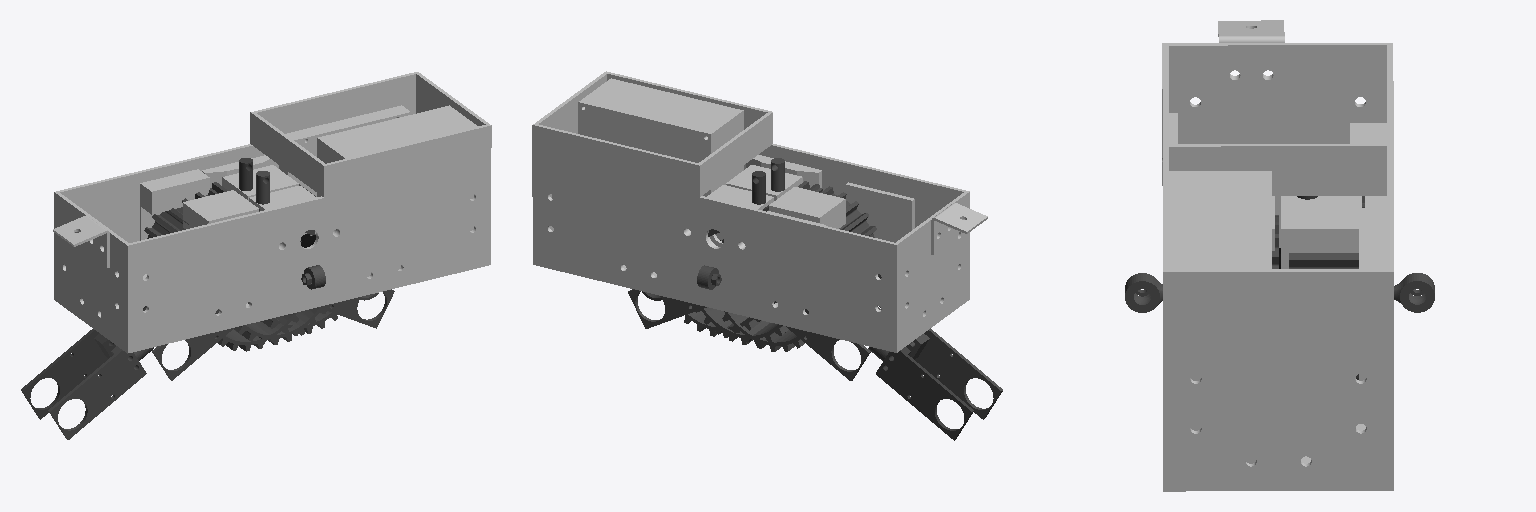
URDF robot description (moonmapper):
<?xml version="1.0" ?>
<!-- =================================================================================== -->
<!-- |    This document was autogenerated by xacro from /home/farr97/rover/simulasjon/moonmapper_ws/install/moonmapper_description/share/moonmapper_description/urdf/moonmapper.urdf.xacro | -->
<!-- |    EDITING THIS FILE BY HAND IS NOT RECOMMENDED                                 | -->
<!-- =================================================================================== -->
<!-- Entry-point xacro for MoonMapper rover -->
<robot name="moonmapper">
  <!-- pi/180 -->
  <link name="world"/>
  <joint name="world_to_base_footprint" type="fixed">
    <parent link="world"/>
    <child link="base_footprint"/>
    <origin rpy="0 0 0" xyz="0 0 0"/>
  </joint>
  <link name="base_footprint"/>
  <link name="base_link">
    <visual>
      <origin rpy="0 0 0" xyz="0 0 0"/>
      <geometry>
        <mesh filename="meshes/visual/robot_base.stl" scale="1 1 1"/>
      </geometry>
      <material name="gray">
        <color rgba="0.8 0.8 0.8 1.0"/>
      </material>
    </visual>
    <collision>
      <origin rpy="0 0 0" xyz="0 0 0"/>
      <geometry>
        <mesh filename="meshes/visual/robot_base.stl" scale="1 1 1"/>
      </geometry>
    </collision>
    <!-- Gazebo krever inertial paa enhver dynamisk link.
         Verdier skalert for en ~5cm rover-chassis (mesh-boks 48x25x18mm). -->
    <inertial>
      <origin rpy="0 0 0" xyz="0 0 -0.005"/>
      <mass value="2.0"/>
      <inertia ixx="0.0010" ixy="0" ixz="0" iyy="0.0012" iyz="0" izz="0.0015"/>
    </inertial>
  </link>
  <joint name="base_footprint_to_base_link" type="fixed">
    <parent link="base_footprint"/>
    <child link="base_link"/>
    <origin rpy="0 0 0" xyz="0 0 0"/>
  </joint>
  <link name="rocker_right_link">
    <visual>
      <origin rpy="0 0 0" xyz="0 0 0"/>
      <geometry>
        <mesh filename="meshes/visual/rocker_right_link.stl" scale="1 1 1"/>
      </geometry>
      <material name="dark_gray">
        <color rgba="0.3 0.3 0.3 1.0"/>
      </material>
    </visual>
    <collision>
      <origin rpy="0 0 0" xyz="0 0 0"/>
      <geometry>
        <mesh filename="meshes/visual/rocker_right_link.stl" scale="1 1 1"/>
      </geometry>
    </collision>
    <inertial>
      <origin rpy="0 0 0" xyz="0 0 0"/>
      <mass value="0.08"/>
      <inertia ixx="0.00002" ixy="0" ixz="0" iyy="0.00004" iyz="0" izz="0.00005"/>
    </inertial>
  </link>
  <joint name="rocker_right_joint" type="revolute">
    <parent link="base_link"/>
    <child link="rocker_right_link"/>
    <origin rpy="0 0 0" xyz="-0.001174 0.014653 0.003683"/>
    <axis xyz="0 1 0"/>
    <dynamics damping="2.0" friction="0.15"/>
    <limit effort="100" lower="-0.5235987755982988" upper="0.5235987755982988" velocity="2.0"/>
  </joint>
  <!-- Bogie right -->
  <link name="bogie_right_link">
    <visual>
      <origin rpy="0 0 0" xyz="0 0 0"/>
      <geometry>
        <mesh filename="meshes/visual/bogie_right_link.stl" scale="1 1 1"/>
      </geometry>
      <material name="moonmapper_dark_gray">
        <color rgba="0.35 0.35 0.35 1.0"/>
      </material>
    </visual>
    <collision>
      <origin rpy="0 0 0" xyz="0 0 0"/>
      <geometry>
        <mesh filename="meshes/visual/bogie_right_link.stl" scale="1 1 1"/>
      </geometry>
    </collision>
    <inertial>
      <origin rpy="0 0 0" xyz="0 0 0"/>
      <mass value="0.05"/>
      <inertia ixx="0.000012" ixy="0" ixz="0" iyy="0.000025" iyz="0" izz="0.000030"/>
    </inertial>
  </link>
  <joint name="bogie_right_joint" type="revolute">
    <parent link="rocker_right_link"/>
    <child link="bogie_right_link"/>
    <origin rpy="0 0 0" xyz="-0.008727 0.002407 -0.006584"/>
    <axis xyz="0 1 0"/>
    <!-- Near-null statisk friksjon slik at bogien returnerer til flat
         posisjon naar begge hjul faar bakkekontakt igjen (ekte bogie har
         lager, ikke friksjon). Moderat damping hindrer oscillasjon. -->
    <dynamics damping="0.3" friction="0.01"/>
    <limit effort="100" lower="-0.6981317007977318" upper="0.6981317007977318" velocity="2.0"/>
  </joint>
  <!-- Rocker left link -->
  <link name="rocker_left_link">
    <visual>
      <origin rpy="0 0 0" xyz="0 0 0"/>
      <geometry>
        <mesh filename="meshes/visual/rocker_left_link.stl" scale="1 1 1"/>
      </geometry>
      <material name="moonmapper_dark_gray">
        <color rgba="0.35 0.35 0.35 1.0"/>
      </material>
    </visual>
    <collision>
      <origin rpy="0 0 0" xyz="0 0 0"/>
      <geometry>
        <mesh filename="meshes/visual/rocker_left_link.stl" scale="1 1 1"/>
      </geometry>
    </collision>
    <inertial>
      <origin rpy="0 0 0" xyz="0 0 0"/>
      <mass value="0.08"/>
      <inertia ixx="0.00002" ixy="0" ixz="0" iyy="0.00004" iyz="0" izz="0.00005"/>
    </inertial>
  </link>
  <joint name="rocker_left_joint" type="revolute">
    <parent link="base_link"/>
    <child link="rocker_left_link"/>
    <origin rpy="0 0 0" xyz="-0.001757 -0.014861 0.00385"/>
    <axis xyz="0 1 0"/>
    <dynamics damping="2.0" friction="0.15"/>
    <limit effort="100" lower="-0.5235987755982988" upper="0.5235987755982988" velocity="2.0"/>
  </joint>
  <!-- Bogie left link -->
  <link name="bogie_left_link">
    <visual>
      <origin rpy="0 0 0" xyz="0 0 0"/>
      <geometry>
        <mesh filename="meshes/visual/bogie_left_link.stl" scale="1 1 1"/>
      </geometry>
      <material name="moonmapper_dark_gray">
        <color rgba="0.35 0.35 0.35 1.0"/>
      </material>
    </visual>
    <collision>
      <origin rpy="0 0 0" xyz="0 0 0"/>
      <geometry>
        <mesh filename="meshes/visual/bogie_left_link.stl" scale="1 1 1"/>
      </geometry>
    </collision>
    <inertial>
      <origin rpy="0 0 0" xyz="0 0 0"/>
      <mass value="0.05"/>
      <inertia ixx="0.000012" ixy="0" ixz="0" iyy="0.000025" iyz="0" izz="0.000030"/>
    </inertial>
  </link>
  <joint name="bogie_left_joint" type="revolute">
    <parent link="rocker_left_link"/>
    <child link="bogie_left_link"/>
    <origin rpy="0 0 0" xyz="-0.008753 -0.001895 -0.00665"/>
    <axis xyz="0 1 0"/>
    <!-- Se kommentar paa bogie_right_joint: bogien skal oppfoere seg som
         en lager-koblet pivot, ikke en friksjons-laast joint. -->
    <dynamics damping="0.3" friction="0.01"/>
    <limit effort="100" lower="-0.6981317007977318" upper="0.6981317007977318" velocity="2.0"/>
  </joint>
  <!-- wheel l1 link -->
  <link name="wheel_l1_link">
    <visual>
      <origin rpy="0 0 0" xyz="0 0 0"/>
      <geometry>
        <mesh filename="meshes/visual/wheel_l1_link.stl" scale="1 1 1"/>
      </geometry>
      <material name="moonmapper_dark_gray">
        <color rgba="0.35 0.35 0.35 1.0"/>
      </material>
    </visual>
    <collision>
      <origin rpy="0 0 0" xyz="0 0 0"/>
      <geometry>
        <mesh filename="meshes/visual/wheel_l1_link.stl" scale="1 1 1"/>
      </geometry>
    </collision>
    <inertial>
      <origin rpy="0 0 0" xyz="0 0 0"/>
      <mass value="0.02"/>
      <inertia ixx="6e-7" ixy="0" ixz="0" iyy="6e-7" iyz="0" izz="1e-6"/>
    </inertial>
  </link>
  <joint name="wheel_l1_joint" type="continuous">
    <parent link="rocker_left_link"/>
    <child link="wheel_l1_link"/>
    <origin rpy="0 0 0" xyz="0.024324 0.001727 -0.019942"/>
    <axis xyz="0 1 0"/>
    <dynamics damping="0.005" friction="0.002"/>
  </joint>
  <!-- wheel r1 link -->
  <link name="wheel_r1_link">
    <visual>
      <origin rpy="0 0 0" xyz="0 0 0"/>
      <geometry>
        <mesh filename="meshes/visual/wheel_r1_link.stl" scale="1 1 1"/>
      </geometry>
      <material name="moonmapper_dark_gray">
        <color rgba="0.35 0.35 0.35 1.0"/>
      </material>
    </visual>
    <collision>
      <origin rpy="0 0 0" xyz="0 0 0"/>
      <geometry>
        <mesh filename="meshes/visual/wheel_r1_link.stl" scale="1 1 1"/>
      </geometry>
    </collision>
    <inertial>
      <origin rpy="0 0 0" xyz="0 0 0"/>
      <mass value="0.02"/>
      <inertia ixx="6e-7" ixy="0" ixz="0" iyy="6e-7" iyz="0" izz="1e-6"/>
    </inertial>
  </link>
  <joint name="wheel_r1_joint" type="continuous">
    <parent link="rocker_right_link"/>
    <child link="wheel_r1_link"/>
    <origin rpy="0 0 0" xyz="0.023857 0.002243 -0.019913"/>
    <axis xyz="0 1 0"/>
    <dynamics damping="0.005" friction="0.002"/>
  </joint>
  <!-- wheel l2 link -->
  <link name="wheel_l2_link">
    <visual>
      <origin rpy="0 0 0" xyz="0 0 0"/>
      <geometry>
        <mesh filename="meshes/visual/wheel_l2_link.stl" scale="1 1 1"/>
      </geometry>
      <material name="moonmapper_dark_gray">
        <color rgba="0.35 0.35 0.35 1.0"/>
      </material>
    </visual>
    <collision>
      <origin rpy="0 0 0" xyz="0 0 0"/>
      <geometry>
        <mesh filename="meshes/visual/wheel_l2_link.stl" scale="1 1 1"/>
      </geometry>
    </collision>
    <inertial>
      <origin rpy="0 0 0" xyz="0 0 0"/>
      <mass value="0.02"/>
      <inertia ixx="6e-7" ixy="0" ixz="0" iyy="6e-7" iyz="0" izz="1e-6"/>
    </inertial>
  </link>
  <joint name="wheel_l2_joint" type="continuous">
    <parent link="bogie_left_link"/>
    <child link="wheel_l2_link"/>
    <origin rpy="0 0 0" xyz="0.007327 -0.001656 -0.013336"/>
    <axis xyz="0 1 0"/>
    <dynamics damping="0.005" friction="0.002"/>
  </joint>
  <!-- wheel r2 link -->
  <link name="wheel_r2_link">
    <visual>
      <origin rpy="0 0 0" xyz="0 0 0"/>
      <geometry>
        <mesh filename="meshes/visual/wheel_r2_link.stl" scale="1 1 1"/>
      </geometry>
      <material name="moonmapper_dark_gray">
        <color rgba="0.35 0.35 0.35 1.0"/>
      </material>
    </visual>
    <collision>
      <origin rpy="0 0 0" xyz="0 0 0"/>
      <geometry>
        <mesh filename="meshes/visual/wheel_r2_link.stl" scale="1 1 1"/>
      </geometry>
    </collision>
    <inertial>
      <origin rpy="0 0 0" xyz="0 0 0"/>
      <mass value="0.02"/>
      <inertia ixx="6e-7" ixy="0" ixz="0" iyy="6e-7" iyz="0" izz="1e-6"/>
    </inertial>
  </link>
  <joint name="wheel_r2_joint" type="continuous">
    <parent link="bogie_right_link"/>
    <child link="wheel_r2_link"/>
    <origin rpy="0 0 0" xyz="0.006878 0.001644 -0.013202"/>
    <axis xyz="0 1 0"/>
    <dynamics damping="0.005" friction="0.002"/>
  </joint>
  <!-- wheel l3 link -->
  <link name="wheel_l3_link">
    <visual>
      <origin rpy="0 0 0" xyz="0 0 0"/>
      <geometry>
        <mesh filename="meshes/visual/wheel_l3_link.stl" scale="1 1 1"/>
      </geometry>
      <material name="moonmapper_dark_gray">
        <color rgba="0.35 0.35 0.35 1.0"/>
      </material>
    </visual>
    <collision>
      <origin rpy="0 0 0" xyz="0 0 0"/>
      <geometry>
        <mesh filename="meshes/visual/wheel_l3_link.stl" scale="1 1 1"/>
      </geometry>
    </collision>
    <inertial>
      <origin rpy="0 0 0" xyz="0 0 0"/>
      <mass value="0.02"/>
      <inertia ixx="6e-7" ixy="0" ixz="0" iyy="6e-7" iyz="0" izz="1e-6"/>
    </inertial>
  </link>
  <joint name="wheel_l3_joint" type="continuous">
    <parent link="bogie_left_link"/>
    <child link="wheel_l3_link"/>
    <origin rpy="0 0 0" xyz="-0.01548 -0.001576 -0.013293"/>
    <axis xyz="0 1 0"/>
    <dynamics damping="0.005" friction="0.002"/>
  </joint>
  <!-- wheel r3 link -->
  <link name="wheel_r3_link">
    <visual>
      <origin rpy="0 0 0" xyz="0 0 0"/>
      <geometry>
        <mesh filename="meshes/visual/wheel_r3_link.stl" scale="1 1 1"/>
      </geometry>
      <material name="moonmapper_dark_gray">
        <color rgba="0.35 0.35 0.35 1.0"/>
      </material>
    </visual>
    <collision>
      <origin rpy="0 0 0" xyz="0 0 0"/>
      <geometry>
        <mesh filename="meshes/visual/wheel_r3_link.stl" scale="1 1 1"/>
      </geometry>
    </collision>
    <inertial>
      <origin rpy="0 0 0" xyz="0 0 0"/>
      <mass value="0.02"/>
      <inertia ixx="6e-7" ixy="0" ixz="0" iyy="6e-7" iyz="0" izz="1e-6"/>
    </inertial>
  </link>
  <joint name="wheel_r3_joint" type="continuous">
    <parent link="bogie_right_link"/>
    <child link="wheel_r3_link"/>
    <origin rpy="0 0 0" xyz="-0.016083 0.001754 -0.013217"/>
    <axis xyz="0 1 0"/>
    <dynamics damping="0.005" friction="0.002"/>
  </joint>
  <!-- hengsel_diff_left link -->
  <link name="hengsel_diff_L_link">
    <visual>
      <origin rpy="0 0 0" xyz="0 0 0"/>
      <geometry>
        <mesh filename="meshes/visual/hengsel_diff_L_link.stl" scale="1 1 1"/>
      </geometry>
      <material name="moonmapper_dark_gray">
        <color rgba="0.35 0.35 0.35 1.0"/>
      </material>
    </visual>
    <collision>
      <origin rpy="0 0 0" xyz="0 0 0"/>
      <geometry>
        <mesh filename="meshes/visual/hengsel_diff_L_link.stl" scale="1 1 1"/>
      </geometry>
    </collision>
    <inertial>
      <origin rpy="0 0 0" xyz="0 0 0"/>
      <mass value="0.005"/>
      <inertia ixx="1e-7" ixy="0" ixz="0" iyy="1e-7" iyz="0" izz="1e-7"/>
    </inertial>
  </link>
  <joint name="hengsel_diff_L_joint" type="revolute">
    <parent link="rocker_left_link"/>
    <child link="hengsel_diff_L_link"/>
    <origin rpy="0 0 0" xyz="0.014857 0.001357 -0.011228"/>
    <axis xyz="0 0 1"/>
    <dynamics damping="0.5" friction="0.05"/>
    <limit effort="50" lower="-0.7853981633974483" upper="0.7853981633974483" velocity="2.0"/>
  </joint>
  <link name="hengsel_diff_R_link">
    <visual>
      <origin rpy="0 0 0" xyz="0 0 0"/>
      <geometry>
        <mesh filename="meshes/visual/hengsel_diff_R_link.stl" scale="1 1 1"/>
      </geometry>
      <material name="moonmapper_dark_gray">
        <color rgba="0.35 0.35 0.35 1.0"/>
      </material>
    </visual>
    <collision>
      <origin rpy="0 0 0" xyz="0 0 0"/>
      <geometry>
        <mesh filename="meshes/visual/hengsel_diff_R_link.stl" scale="1 1 1"/>
      </geometry>
    </collision>
    <inertial>
      <origin rpy="0 0 0" xyz="0 0 0"/>
      <mass value="0.005"/>
      <inertia ixx="1e-7" ixy="0" ixz="0" iyy="1e-7" iyz="0" izz="1e-7"/>
    </inertial>
  </link>
  <joint name="hengsel_diff_R_joint" type="revolute">
    <parent link="rocker_right_link"/>
    <child link="hengsel_diff_R_link"/>
    <origin rpy="0 0 0" xyz="0.014840 -0.002163 -0.011123"/>
    <axis xyz="0 0 1"/>
    <dynamics damping="0.5" friction="0.05"/>
    <limit effort="50" lower="-0.7853981633974483" upper="0.7853981633974483" velocity="2.0"/>
  </joint>
  <link name="rocker_bogie_diff_link">
    <visual>
      <origin rpy="0 0 0" xyz="0 0 0"/>
      <geometry>
        <mesh filename="meshes/visual/rocker_bogie_diff_link.stl" scale="1 1 1"/>
      </geometry>
      <material name="moonmapper_dark_gray">
        <color rgba="0.35 0.35 0.35 1.0"/>
      </material>
    </visual>
    <collision>
      <origin rpy="0 0 0" xyz="0 0 0"/>
      <geometry>
        <mesh filename="meshes/visual/rocker_bogie_diff_link.stl" scale="1 1 1"/>
      </geometry>
    </collision>
    <inertial>
      <origin rpy="0 0 0" xyz="0 0 0"/>
      <mass value="0.005"/>
      <inertia ixx="1e-7" ixy="0" ixz="0" iyy="1e-7" iyz="0" izz="1e-7"/>
    </inertial>
  </link>
  <joint name="rocker_bogie_diff_joint" type="revolute">
    <parent link="base_link"/>
    <child link="rocker_bogie_diff_link"/>
    <origin rpy="0 0 0" xyz="0.01282 0.0 -0.007233"/>
    <axis xyz="0 0 1"/>
    <dynamics damping="0.8" friction="0.08"/>
    <limit effort="100" lower="-1.5707963267948966" upper="1.5707963267948966" velocity="2.0"/>
  </joint>
  <!-- =============================================================== -->
  <!-- SENSORER: IMU + stereokamera                                    -->
  <!--                                                                 -->
  <!-- Linkene defineres her i base-URDF slik at BAADE RViz og Gazebo  -->
  <!-- ser samme kinematikk/TF. Fysikk- og sensor-tag-ene ligger i     -->
  <!-- moonmapper_rover_gazebo.urdf.xacro (aktiveres kun i sim).       -->
  <!-- =============================================================== -->
  <!-- === IMU (midten av basen, like over CG) === -->
  <link name="imu_link">
    <visual>
      <origin rpy="0 0 0" xyz="0 0 0"/>
      <geometry>
        <box size="0.004 0.004 0.0015"/>
      </geometry>
      <material name="imu_blue">
        <color rgba="0.1 0.3 0.9 1.0"/>
      </material>
    </visual>
    <inertial>
      <origin rpy="0 0 0" xyz="0 0 0"/>
      <mass value="0.002"/>
      <inertia ixx="1e-8" ixy="0" ixz="0" iyy="1e-8" iyz="0" izz="1e-8"/>
    </inertial>
  </link>
  <joint name="imu_joint" type="fixed">
    <parent link="base_link"/>
    <child link="imu_link"/>
    <origin rpy="0 0 0" xyz="0.0 0.0 0.005"/>
  </joint>
  <!-- === Stereokamera-hus (fronten av basen) === -->
  <!-- Mesh er ~4x13x4 mm, oppgitt i meter.
     Plasseres paa fronten av basen, litt over toppen. -->
  <link name="stereo_camera_link">
    <visual>
      <origin rpy="0 0 0" xyz="0 0 0"/>
      <geometry>
        <mesh filename="meshes/visual/steriokamera_link.stl" scale="1 1 1"/>
      </geometry>
      <material name="cam_black">
        <color rgba="0.1 0.1 0.1 1.0"/>
      </material>
    </visual>
    <collision>
      <origin rpy="0 0 0" xyz="0 0 0"/>
      <geometry>
        <mesh filename="meshes/visual/steriokamera_link.stl" scale="1 1 1"/>
      </geometry>
    </collision>
    <inertial>
      <origin rpy="0 0 0" xyz="0 0 0"/>
      <mass value="0.010"/>
      <inertia ixx="2e-7" ixy="0" ixz="0" iyy="2e-7" iyz="0" izz="2e-7"/>
    </inertial>
  </link>
  <joint name="stereo_camera_joint" type="fixed">
    <parent link="base_link"/>
    <child link="stereo_camera_link"/>
    <!-- CAD-opprinnelig posisjon fra Blender-prosjektet. Selve
       kamera-SENSOREN (Gazebo) festes direkte paa base_link med
       pose-offset i gz xacro-wrapperen, slik at hverken render-
       rekkefoelgen eller fixed-joint-lumping paavirker kamera-
       posen. Denne link-en er kun for visual mesh + TF. -->
    <origin rpy="0 0 0" xyz="0.022 0.0 0.0089"/>
  </joint>
  <!-- === Venstre kamera: fysisk frame + optisk frame === -->
  <!-- Venstre = +y (ROS: +y peker til venstre) -->
  <link name="stereo_left_camera_link">
    <inertial>
      <origin rpy="0 0 0" xyz="0 0 0"/>
      <mass value="0.001"/>
      <inertia ixx="1e-9" ixy="0" ixz="0" iyy="1e-9" iyz="0" izz="1e-9"/>
    </inertial>
  </link>
  <joint name="stereo_left_camera_joint" type="fixed">
    <parent link="stereo_camera_link"/>
    <child link="stereo_left_camera_link"/>
    <origin rpy="0 0 0" xyz="0.0 0.005 0.0"/>
  </joint>
  <!-- Optisk frame: ROS-konvensjon (x=right, y=down, z=forward)
     rotert fra fysisk frame (x=forward, y=left, z=up) -->
  <link name="stereo_left_optical_frame"/>
  <joint name="stereo_left_optical_joint" type="fixed">
    <parent link="stereo_left_camera_link"/>
    <child link="stereo_left_optical_frame"/>
    <origin rpy="-1.5707963267948966 0 -1.5707963267948966" xyz="0 0 0"/>
  </joint>
  <!-- === Hoeyre kamera === -->
  <link name="stereo_right_camera_link">
    <inertial>
      <origin rpy="0 0 0" xyz="0 0 0"/>
      <mass value="0.001"/>
      <inertia ixx="1e-9" ixy="0" ixz="0" iyy="1e-9" iyz="0" izz="1e-9"/>
    </inertial>
  </link>
  <joint name="stereo_right_camera_joint" type="fixed">
    <parent link="stereo_camera_link"/>
    <child link="stereo_right_camera_link"/>
    <origin rpy="0 0 0" xyz="0.0 -0.005 0.0"/>
  </joint>
  <link name="stereo_right_optical_frame"/>
  <joint name="stereo_right_optical_joint" type="fixed">
    <parent link="stereo_right_camera_link"/>
    <child link="stereo_right_optical_frame"/>
    <origin rpy="-1.5707963267948966 0 -1.5707963267948966" xyz="0 0 0"/>
  </joint>
  <!-- ====== Depth / RGB-D-kamera ======
     Samme fysisk hus som stereokameraet, sentrert midt mellom
     venstre og hoeyre RGB-sensor. Ren TF-link; Gazebo-sensoren
     festes direkte paa base_link med <pose> (se gz-xacro). -->
  <link name="depth_camera_link">
    <inertial>
      <origin rpy="0 0 0" xyz="0 0 0"/>
      <mass value="0.001"/>
      <inertia ixx="1e-9" ixy="0" ixz="0" iyy="1e-9" iyz="0" izz="1e-9"/>
    </inertial>
  </link>
  <joint name="depth_camera_joint" type="fixed">
    <parent link="stereo_camera_link"/>
    <child link="depth_camera_link"/>
    <origin rpy="0 0 0" xyz="0.0 0.0 0.0"/>
  </joint>
  <link name="depth_camera_optical_frame"/>
  <joint name="depth_camera_optical_joint" type="fixed">
    <parent link="depth_camera_link"/>
    <child link="depth_camera_optical_frame"/>
    <origin rpy="-1.5707963267948966 0 -1.5707963267948966" xyz="0 0 0"/>
  </joint>
</robot>

--- Render facts (derived) ---
3 views of the same robot in one strip: view 1: azimuth 30°, elevation 25°; view 2: azimuth 150°, elevation 25°; view 3: azimuth 270°, elevation 25° (orthographic).
Model moonmapper with 24 links and 23 joints (7 revolute, 6 continuous, 10 fixed), rooted at world, posed all joints at 0.
Links seen in each view (by area): view 1: base_link, rocker_left_link, rocker_right_link, bogie_left_link, wheel_l2_link, wheel_l3_link, wheel_r3_link; view 2: base_link, rocker_right_link, rocker_left_link, bogie_right_link, wheel_r3_link, wheel_r2_link, wheel_l3_link, wheel_r1_link; view 3: base_link, rocker_bogie_diff_link, wheel_r1_link.
Link boxes in pixels (x1,y1,x2,y2): base_link: (53, 72, 491, 353); rocker_left_link: (48, 171, 378, 439); rocker_right_link: (21, 158, 252, 419); bogie_left_link: (152, 289, 394, 380); wheel_l2_link: (234, 211, 326, 344); wheel_l3_link: (215, 241, 301, 351); wheel_r3_link: (144, 188, 218, 238); base_link: (532, 71, 987, 352); rocker_right_link: (642, 171, 973, 440); rocker_left_link: (771, 158, 1002, 419); bogie_right_link: (628, 289, 870, 380); wheel_r3_link: (722, 239, 807, 351); wheel_r2_link: (696, 210, 788, 345); wheel_l3_link: (808, 184, 879, 276); wheel_r1_link: (684, 301, 776, 337); base_link: (1162, 20, 1393, 491); rocker_bogie_diff_link: (1125, 273, 1434, 312); wheel_r1_link: (1289, 253, 1358, 379).
Bounding box of the posed robot: 0.3667 × 0.1495 × 0.1952 m (x, y, z).
Meshes: 15 distinct files referenced, 13 mesh visuals loaded (13 binary STL); not drawn: 2 (reference not matched to a file when rendering).
